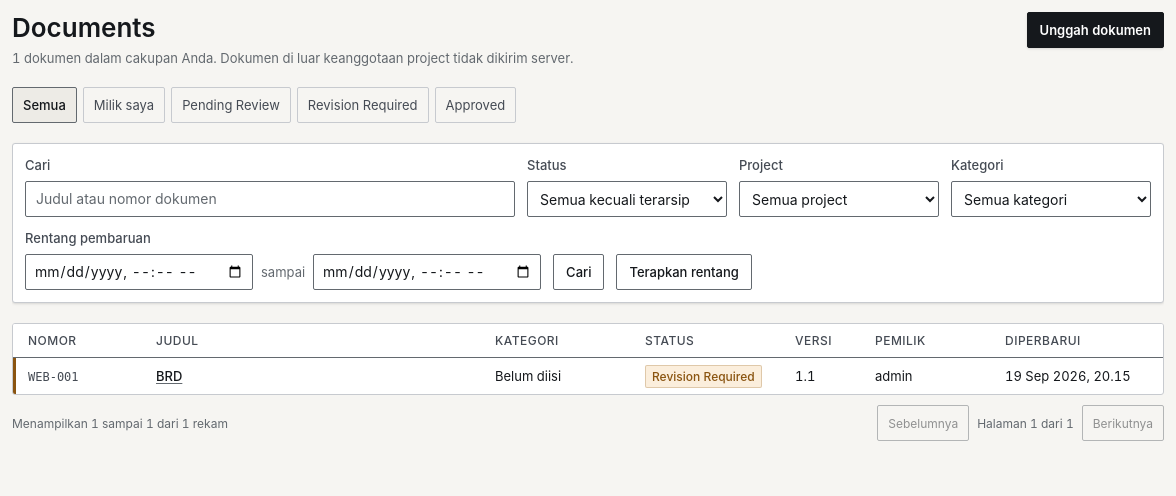
Test case: halaman Documents — daftar › menahan rentang terbalik di klien dan menyebut batas yang salah
Expected: the link "BRD" is shown, [156,368,182,384]
Type "2026-03-31T08:00" into the field named "Pembaruan dari" at [139, 272], box [25,254,253,290]
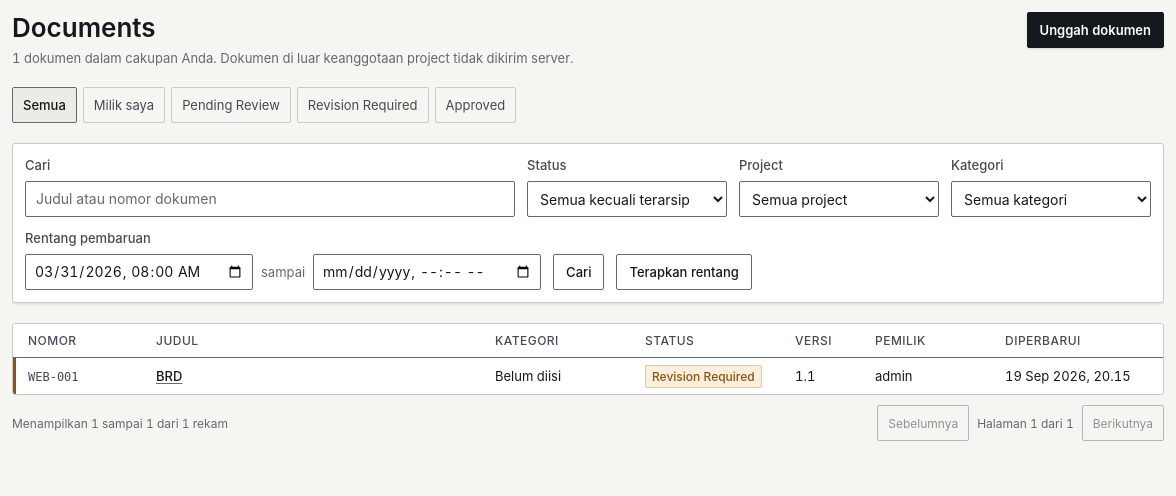
Type "2026-03-01T08:00" into the field named "Pembaruan sampai" at [427, 272], box [313,254,541,290]
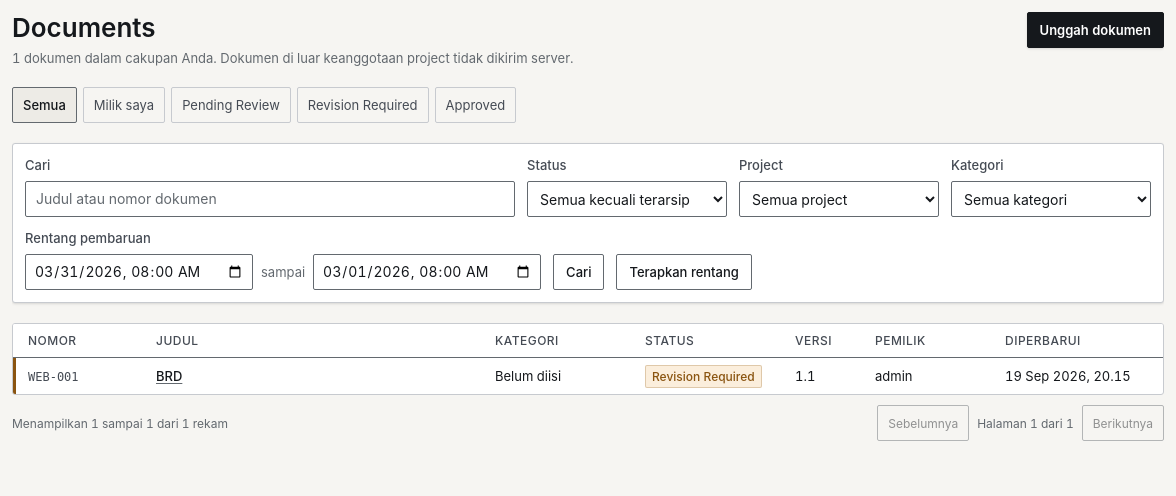
Click the button "Terapkan rentang" at [684, 272], box [616,254,752,290]
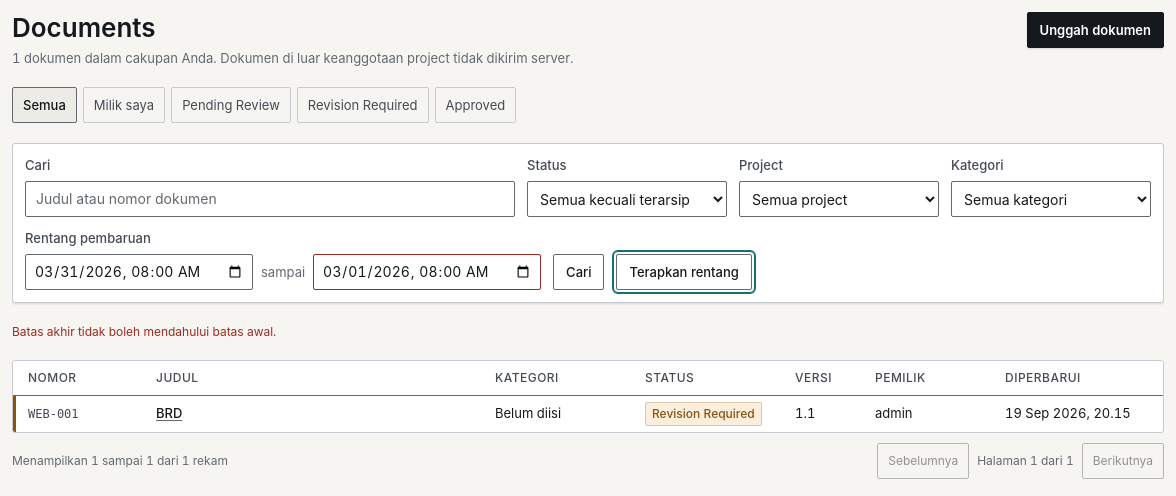
Result: the message reads "Batas akhir tidak boleh mendahului batas awal." at [12,324,276,339]
